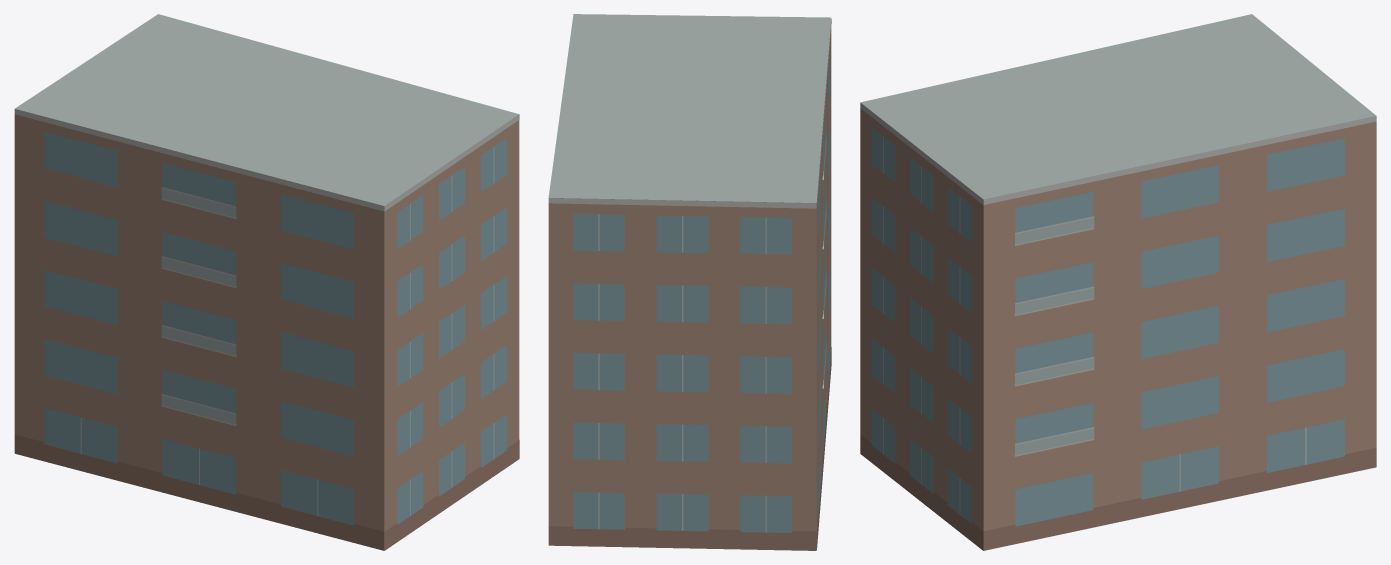
The model's file is survey-upis-32988571.glb.
3 renders of one model, left to right at view 1: azimuth 30°, elevation 25°; view 2: azimuth 150°, elevation 25°; view 3: azimuth 270°, elevation 25°, orthographic.
Visible parts, largest first — view 1: survey-upis-32988571.tmp; view 2: survey-upis-32988571.tmp; view 3: survey-upis-32988571.tmp.
Boxes of the visible parts, box(x1,y1,x2,y2) form: survey-upis-32988571.tmp: box(14, 14, 519, 550); survey-upis-32988571.tmp: box(548, 14, 831, 550); survey-upis-32988571.tmp: box(860, 14, 1376, 550).
Bounding box in the file's own units: 17.27 × 15.25 × 20.32.
